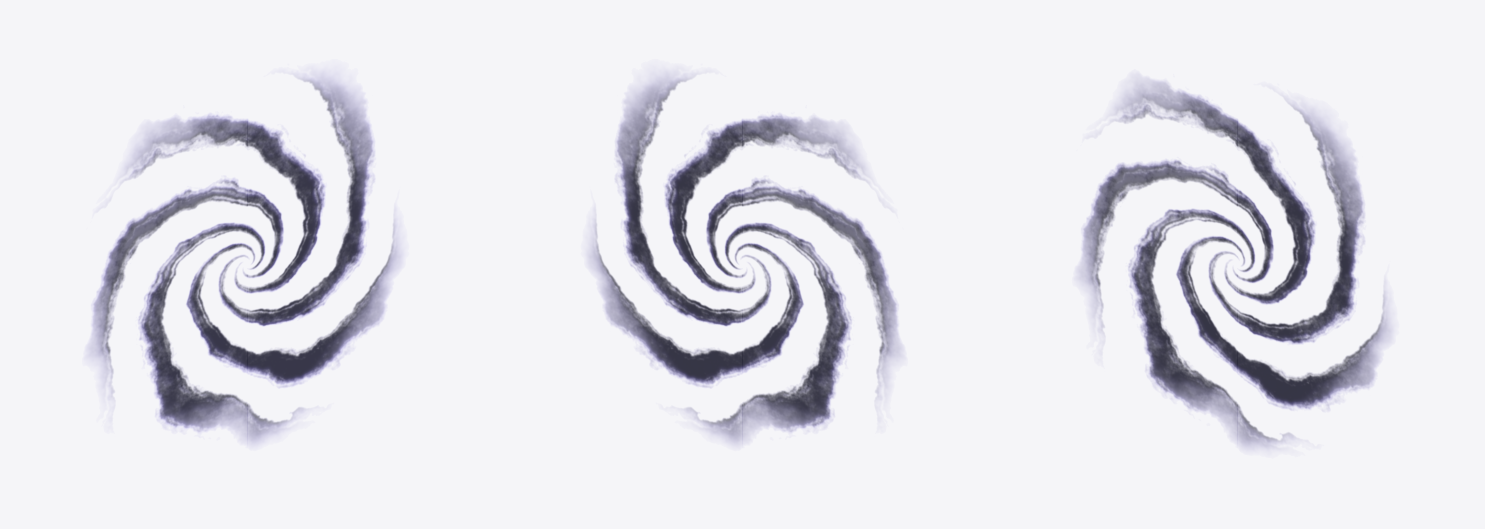
File: sky_swirl_c.glb
3 views of the same model, side by side, from view 1: azimuth 30°, elevation 25°; view 2: azimuth 150°, elevation 25°; view 3: azimuth 330°, elevation 25° (orthographic).
Parts seen in each view (by area): view 1: sky_swirl_c; view 2: sky_swirl_c; view 3: sky_swirl_c.
Boxes of the visible parts, x1,y1,x2,y2 form: sky_swirl_c: (88,72,401,444); sky_swirl_c: (588,72,901,444); sky_swirl_c: (1078,79,1391,448).
Size of the model in its own units: 2 by 2 by 0.
1 material, 1 textured.
